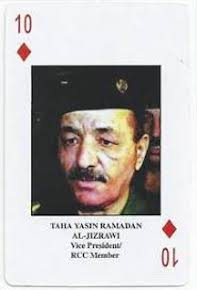TenOfDiamonds: (3, 5, 182, 277)
